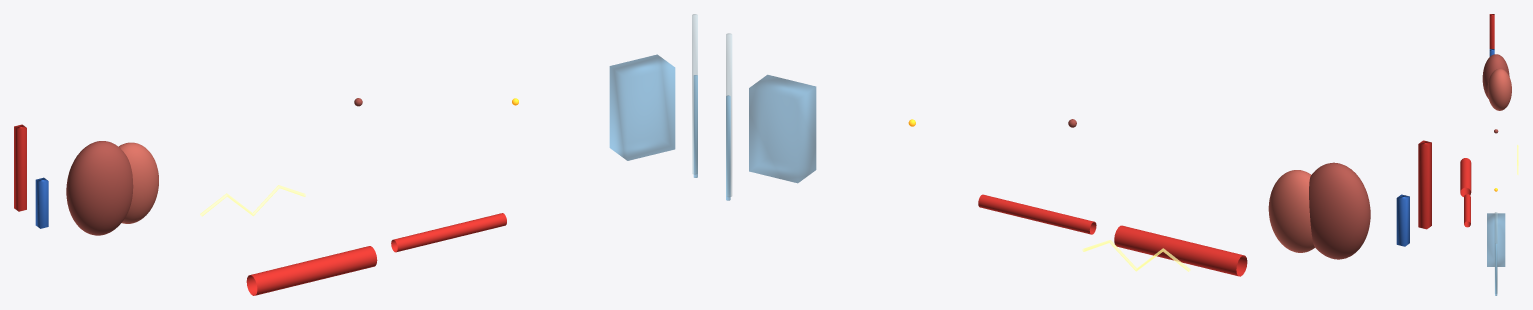
Rendered from circulation_premium.glb.
3 views of the same model, side by side, from view 1: azimuth 30°, elevation 25°; view 2: azimuth 150°, elevation 25°; view 3: azimuth 270°, elevation 25° (orthographic). The views are drawn at different scales.
Parts seen in each view (by area): view 1: DEVICE_reservoir_fluide_pascal, ORGAN_coeur_pompe_gauche, VESSEL_artere_ecoulement_normal, ORGAN_coeur_pompe_droite, VESSEL_artere_stenose, INFO_barre_PA_systole, DEVICE_manometre_eau_colonne_A, INFO_barre_PA_diastole, DEVICE_colonne_eau_manometre, FLOW_onde_pulsatile; view 2: DEVICE_reservoir_fluide_pascal, ORGAN_coeur_pompe_gauche, VESSEL_artere_ecoulement_normal, ORGAN_coeur_pompe_droite, VESSEL_artere_stenose, INFO_barre_PA_systole, DEVICE_manometre_eau_colonne_A, INFO_barre_PA_diastole, DEVICE_colonne_eau_manometre, FLOW_onde_pulsatile; view 3: DEVICE_reservoir_fluide_pascal, ORGAN_coeur_pompe_droite, ORGAN_coeur_pompe_gauche, VESSEL_artere_ecoulement_normal, DEVICE_manometre_eau_colonne_A, VESSEL_artere_stenose, INFO_barre_PA_systole, DEVICE_colonne_eau_manometre, FLOW_onde_pulsatile.
Part boxes in pixels (x1,y1,x2,y2): DEVICE_reservoir_fluide_pascal: (609,54,675,160); ORGAN_coeur_pompe_gauche: (66,141,133,235); VESSEL_artere_ecoulement_normal: (246,246,377,295); ORGAN_coeur_pompe_droite: (118,142,158,223); VESSEL_artere_stenose: (391,213,506,252); INFO_barre_PA_systole: (14,124,26,211); DEVICE_manometre_eau_colonne_A: (692,14,697,174); INFO_barre_PA_diastole: (35,177,48,228); DEVICE_colonne_eau_manometre: (693,75,697,177); FLOW_onde_pulsatile: (200,185,305,216); DEVICE_reservoir_fluide_pascal: (749,75,816,183); ORGAN_coeur_pompe_gauche: (1309,162,1370,259); VESSEL_artere_ecoulement_normal: (1114,225,1247,276); ORGAN_coeur_pompe_droite: (1268,170,1314,252); VESSEL_artere_stenose: (978,194,1096,234); INFO_barre_PA_systole: (1418,140,1431,229); DEVICE_manometre_eau_colonne_A: (726,33,731,196); INFO_barre_PA_diastole: (1396,194,1409,246); DEVICE_colonne_eau_manometre: (726,95,730,200); FLOW_onde_pulsatile: (1082,239,1190,271); DEVICE_reservoir_fluide_pascal: (1487,213,1505,266); ORGAN_coeur_pompe_droite: (1487,68,1511,110); ORGAN_coeur_pompe_gauche: (1482,54,1509,98); VESSEL_artere_ecoulement_normal: (1460,158,1471,196); DEVICE_manometre_eau_colonne_A: (1495,212,1497,293); VESSEL_artere_stenose: (1464,194,1470,227); INFO_barre_PA_systole: (1489,14,1494,48); DEVICE_colonne_eau_manometre: (1495,243,1497,295); FLOW_onde_pulsatile: (1517,144,1518,174).
Size of the model in its own units: 6.58 by 2 by 0.9539.
